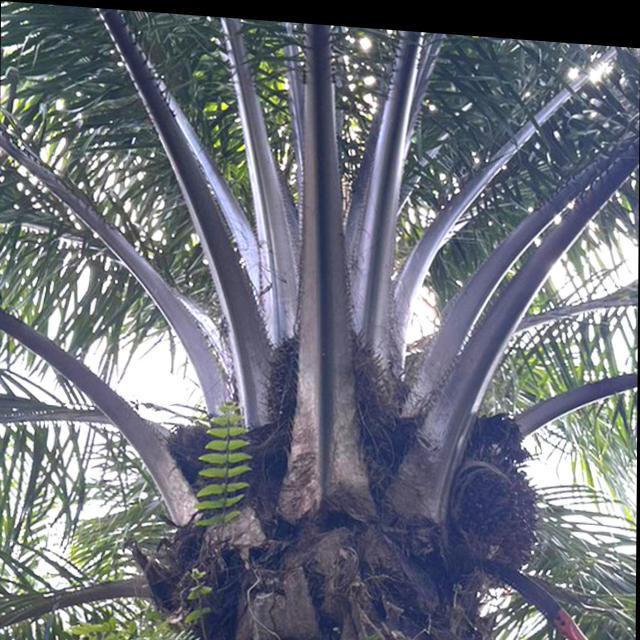unripe: (252, 300, 402, 483)
